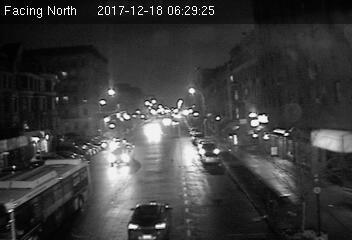car: (126, 198, 171, 240), (107, 140, 137, 169), (199, 142, 221, 158)
